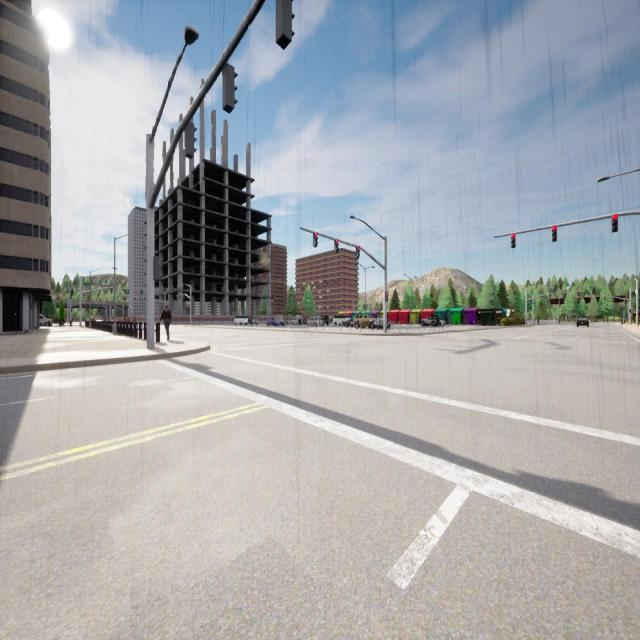Pedestrian: (160, 303, 171, 341)
Vehicle: (354, 314, 374, 328), (420, 315, 439, 326), (332, 314, 348, 326), (375, 317, 390, 328), (266, 317, 284, 326), (40, 315, 52, 326), (235, 315, 248, 325), (286, 317, 302, 325), (306, 318, 322, 326), (577, 317, 589, 327), (320, 316, 329, 326), (249, 316, 258, 324), (346, 320, 352, 327)
traffic_light: (276, 1, 296, 50), (223, 65, 238, 114), (185, 124, 198, 160), (154, 256, 160, 280), (612, 215, 618, 232), (552, 226, 557, 241), (314, 232, 318, 246), (512, 234, 516, 248), (356, 246, 359, 258), (335, 240, 338, 251), (386, 291, 388, 301), (110, 288, 112, 294), (134, 297, 136, 300), (578, 296, 580, 299), (590, 296, 592, 299), (141, 290, 142, 295), (128, 289, 129, 293), (604, 296, 605, 300), (630, 309, 631, 313), (124, 296, 125, 299)
